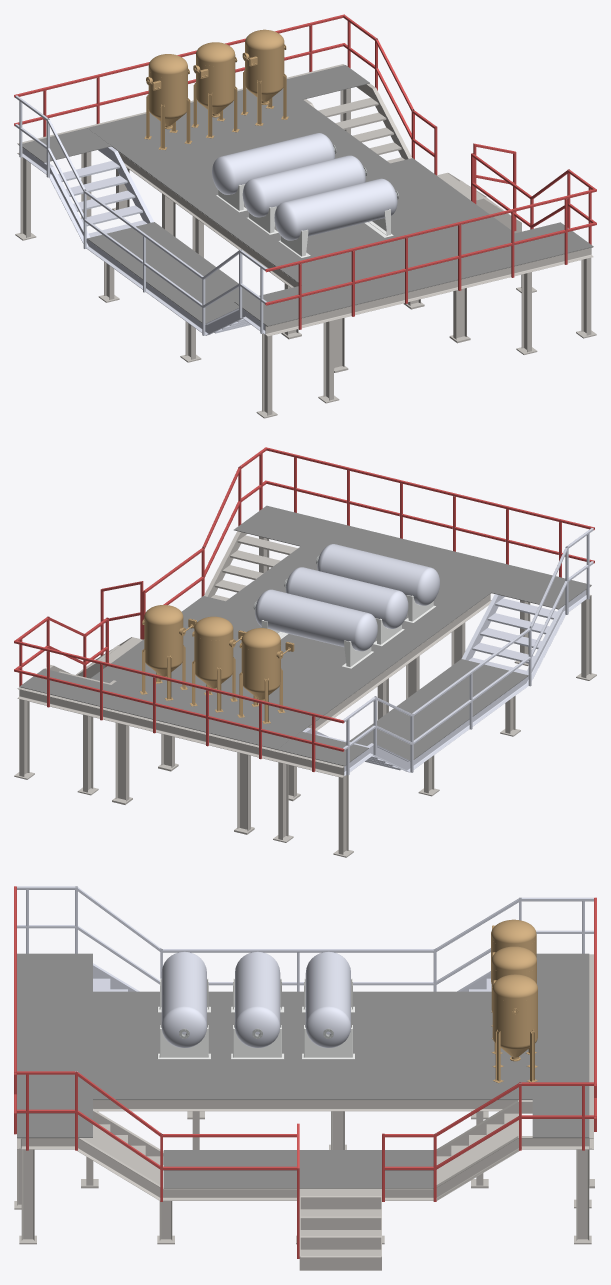
The model's file is 二层处理平台.glb.
3 renders of one model, top to bottom at view 1: azimuth 30°, elevation 25°; view 2: azimuth 150°, elevation 25°; view 3: azimuth 270°, elevation 25°, orthographic. The views are drawn at different scales.
Parts seen in each view (by area): view 1: stitch_result_stitch all (135), stitch_result_stitch all (130), stitch_result_stitch all (131), stitch_result_stitch all (155), stitch_result_stitch all (216), stitch_result_stitch all (217), stitch_result_stitch all (113), stitch_result_stitch all (132), stitch_result_stitch all (39), stitch_result_stitch all (15), stitch_result_stitch all (96), stitch_result_stitch all (134) (+22 smaller); view 2: stitch_result_stitch all (135), stitch_result_stitch all (130), stitch_result_stitch all (131), stitch_result_stitch all (217), stitch_result_stitch all (155), stitch_result_stitch all (216), stitch_result_stitch all (144), stitch_result_stitch all (39), stitch_result_stitch all (15), stitch_result_stitch all (167), stitch_result_stitch all (207), stitch_result_stitch all (187) (+21 smaller); view 3: stitch_result_stitch all (135), stitch_result_stitch all (130), stitch_result_stitch all (132), stitch_result_stitch all (39), stitch_result_stitch all (54), stitch_result_stitch all (155), stitch_result_stitch all (216), stitch_result_stitch all (217), stitch_result_stitch all (15), stitch_result_stitch all (207), stitch_result_stitch all (133), stitch_result_stitch all (96) (+17 smaller).
Boxes of the visible parts, x1=… form: stitch_result_stitch all (135): x1=87, y1=88, x2=492, y2=285; stitch_result_stitch all (130): x1=234, y1=222, x2=593, y2=326; stitch_result_stitch all (131): x1=87, y1=222, x2=254, y2=323; stitch_result_stitch all (155): x1=274, y1=178, x2=398, y2=257; stitch_result_stitch all (216): x1=242, y1=155, x2=367, y2=234; stitch_result_stitch all (217): x1=212, y1=133, x2=336, y2=212; stitch_result_stitch all (113): x1=265, y1=247, x2=593, y2=336; stitch_result_stitch all (132): x1=390, y1=158, x2=514, y2=238; stitch_result_stitch all (39): x1=356, y1=83, x2=595, y2=244; stitch_result_stitch all (15): x1=118, y1=151, x2=298, y2=287; stitch_result_stitch all (96): x1=15, y1=95, x2=107, y2=248; stitch_result_stitch all (134): x1=286, y1=65, x2=369, y2=99; stitch_result_stitch all (135): x1=86, y1=546, x2=490, y2=749; stitch_result_stitch all (130): x1=234, y1=505, x2=591, y2=609; stitch_result_stitch all (131): x1=349, y1=659, x2=528, y2=760; stitch_result_stitch all (217): x1=253, y1=589, x2=377, y2=668; stitch_result_stitch all (155): x1=316, y1=544, x2=439, y2=622; stitch_result_stitch all (216): x1=284, y1=567, x2=408, y2=646; stitch_result_stitch all (144): x1=17, y1=687, x2=344, y2=777; stitch_result_stitch all (39): x1=45, y1=448, x2=266, y2=673; stitch_result_stitch all (15): x1=306, y1=593, x2=491, y2=730; stitch_result_stitch all (167): x1=241, y1=644, x2=280, y2=699; stitch_result_stitch all (207): x1=144, y1=622, x2=183, y2=676; stitch_result_stitch all (187): x1=194, y1=633, x2=233, y2=688; stitch_result_stitch all (135): x1=93, y1=991, x2=589, y2=1099; stitch_result_stitch all (130): x1=17, y1=953, x2=92, y2=1137; stitch_result_stitch all (132): x1=163, y1=1150, x2=433, y2=1188; stitch_result_stitch all (39): x1=17, y1=1071, x2=589, y2=1201; stitch_result_stitch all (54): x1=299, y1=1189, x2=381, y2=1268; stitch_result_stitch all (155): x1=157, y1=951, x2=210, y2=1059; stitch_result_stitch all (216): x1=231, y1=951, x2=284, y2=1059; stitch_result_stitch all (217): x1=302, y1=951, x2=354, y2=1059; stitch_result_stitch all (15): x1=93, y1=1100, x2=517, y2=1111; stitch_result_stitch all (207): x1=492, y1=993, x2=537, y2=1057; stitch_result_stitch all (133): x1=536, y1=953, x2=589, y2=991; stitch_result_stitch all (96): x1=383, y1=897, x2=593, y2=991.
Size of the model in its own units: 7.17 by 3.12 by 8.23.
